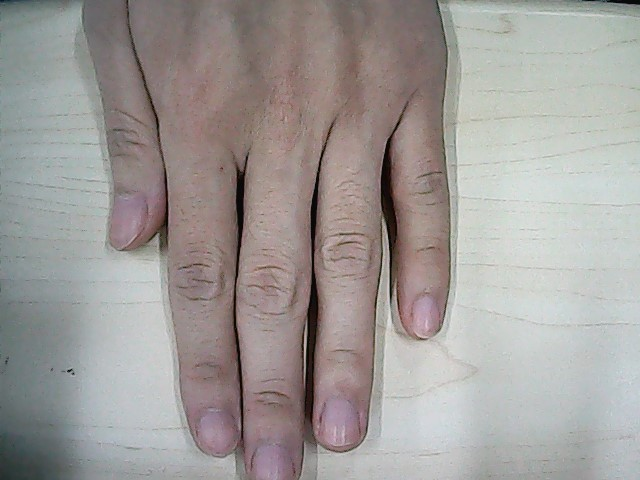nail: (198, 411, 237, 457), (111, 198, 146, 247), (322, 403, 360, 446), (252, 446, 294, 480), (413, 296, 441, 339)
